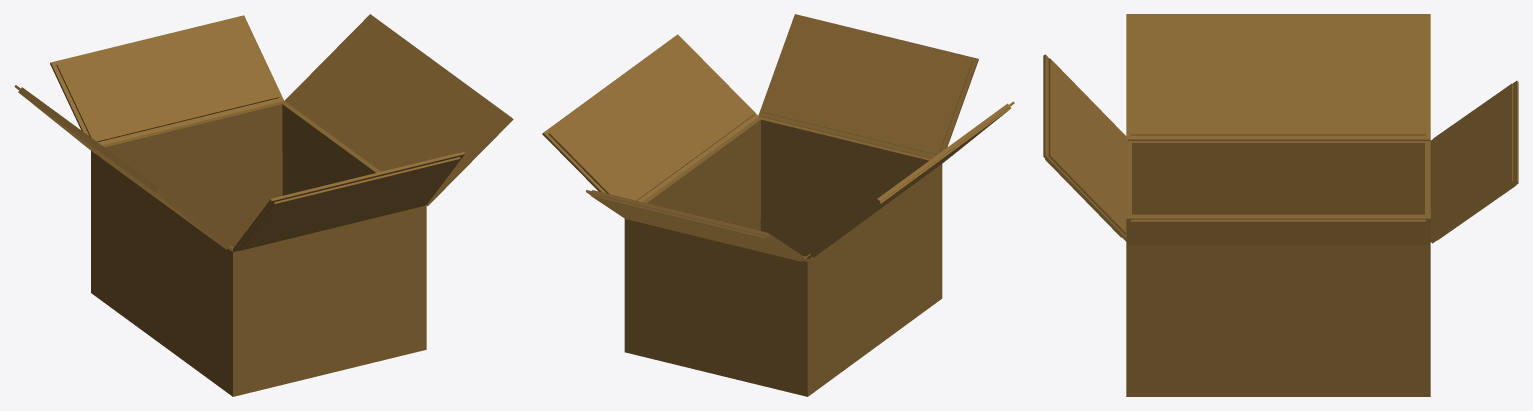
The model's file is openedbox.fbx.
3 views of the same model, side by side, from view 1: azimuth 30°, elevation 25°; view 2: azimuth 150°, elevation 25°; view 3: azimuth 270°, elevation 25° (orthographic). The views are drawn at different scales.
Visible parts, largest first — view 1: filebox2; view 2: filebox2; view 3: filebox2.
Part boxes in pixels (x1,y1,x2,y2): filebox2: [14, 14, 513, 396]; filebox2: [542, 14, 1014, 396]; filebox2: [1043, 14, 1518, 396].
Size of the model in its own units: 53 by 32.1 by 57.
